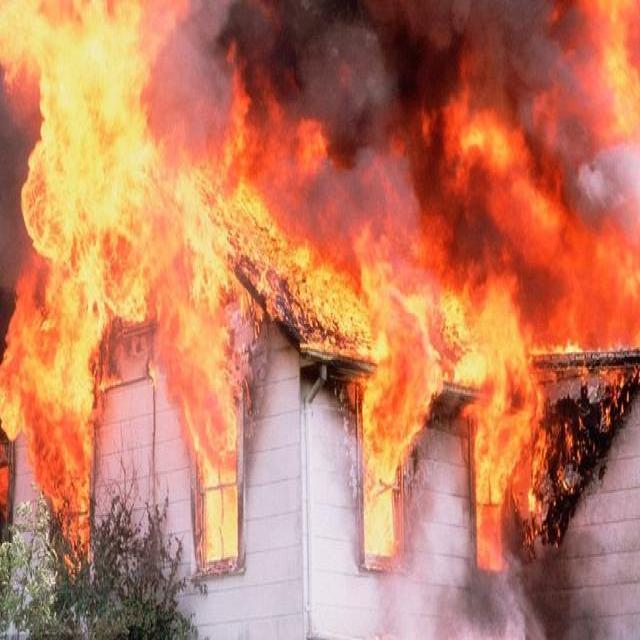Fire: (0, 0, 151, 537), (152, 148, 258, 472), (356, 248, 437, 562), (436, 263, 528, 386)
